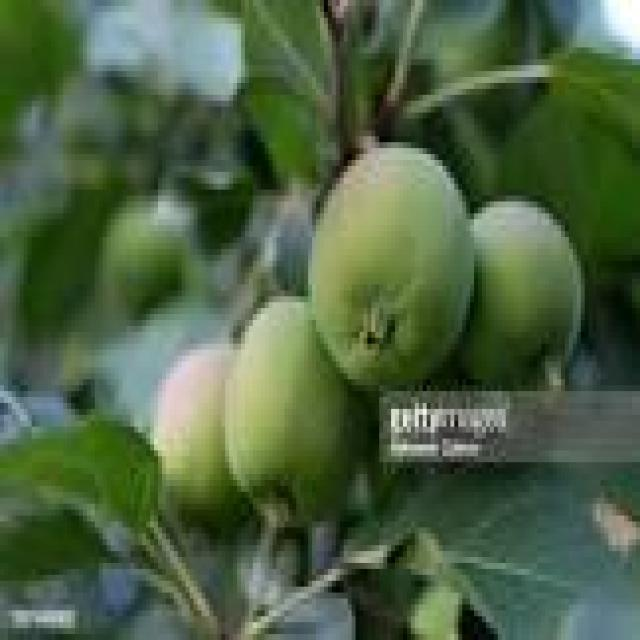apple: (308, 142, 470, 385), (225, 296, 356, 516), (462, 201, 581, 379), (150, 344, 241, 527)
